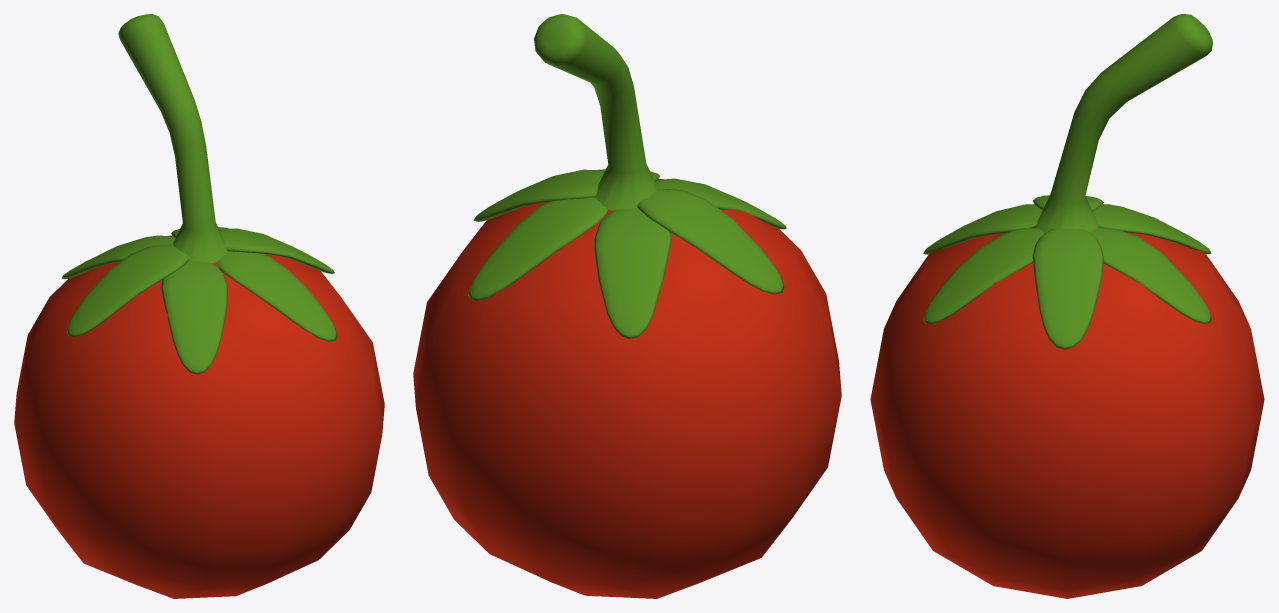
File: prop47.fbx
The picture shows the model from 3 angles, left to right: view 1: azimuth 30°, elevation 25°; view 2: azimuth 150°, elevation 25°; view 3: azimuth 270°, elevation 25°; orthographic projection. The views are drawn at different scales.
Visible parts, largest first — view 1: Cube.030; view 2: Cube.030; view 3: Cube.030.
Boxes of the visible parts, x1,y1,x2,y2 form: Cube.030: [14, 14, 384, 598]; Cube.030: [413, 14, 841, 598]; Cube.030: [870, 14, 1264, 598].
Size of the model in its own units: 0.2185 by 0.2185 by 0.3434.
